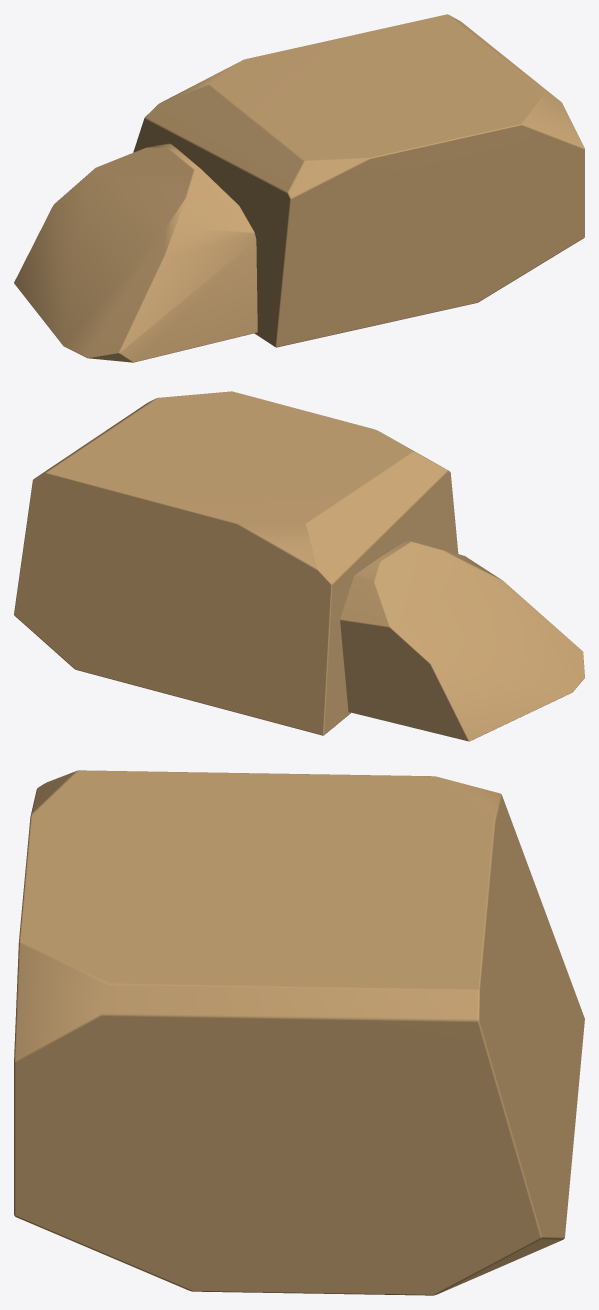
File: Rocks type 9.fbx
3 renders of one model, top to bottom at view 1: azimuth 30°, elevation 25°; view 2: azimuth 150°, elevation 25°; view 3: azimuth 270°, elevation 25°, orthographic. The views are drawn at different scales.
Parts seen in each view (by area): view 1: Cube.133, Cube.132; view 2: Cube.133, Cube.132; view 3: Cube.133.
Boxes of the visible parts, x1=… form: Cube.133: x1=133, y1=14, x2=584, y2=347; Cube.132: x1=14, y1=143, x2=257, y2=362; Cube.133: x1=14, y1=391, x2=458, y2=735; Cube.132: x1=340, y1=540, x2=584, y2=741; Cube.133: x1=14, y1=770, x2=584, y2=1295.
Size of the model in its own units: 2333 by 796 by 1394.
